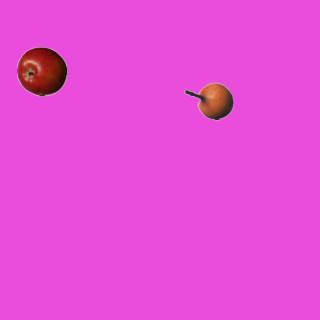Apple Braeburn: (16, 46, 66, 96)
Granadilla: (183, 76, 233, 126)
